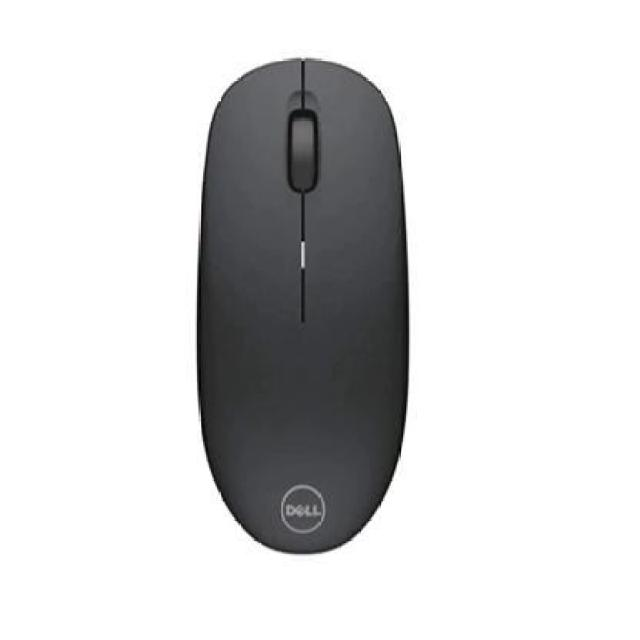not trash: (198, 53, 414, 550)
